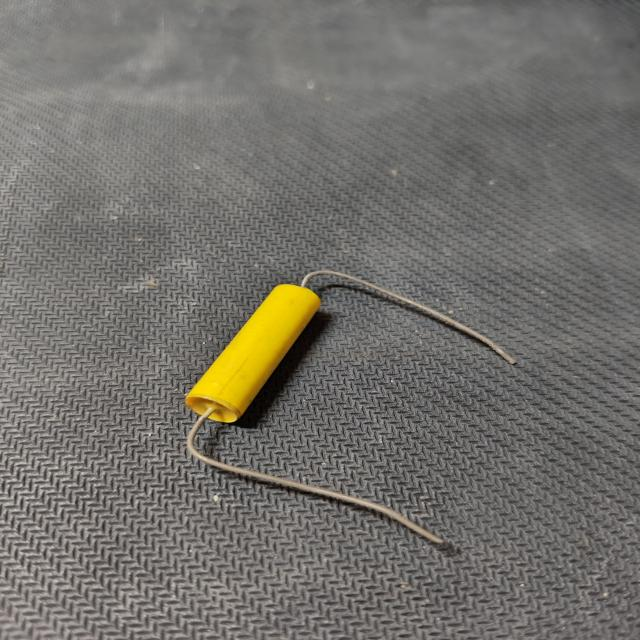capacitor: (186, 270, 516, 549)
